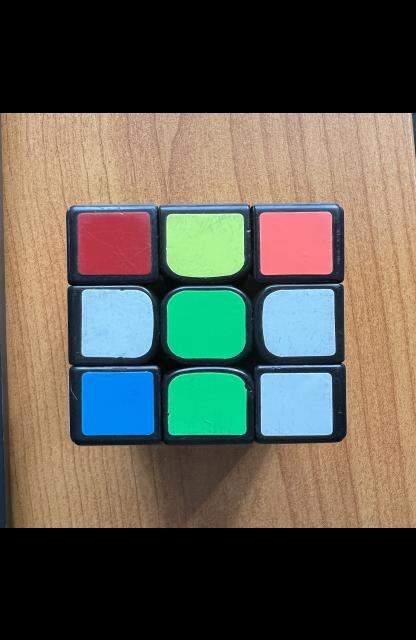Blue: (82, 371, 154, 435)
Green: (167, 290, 245, 358), (168, 371, 247, 435)
Orange: (259, 211, 333, 274)
Red: (77, 211, 150, 273)
White: (262, 288, 336, 356), (82, 289, 153, 357), (260, 372, 333, 435)
Yellow: (166, 213, 244, 277)
